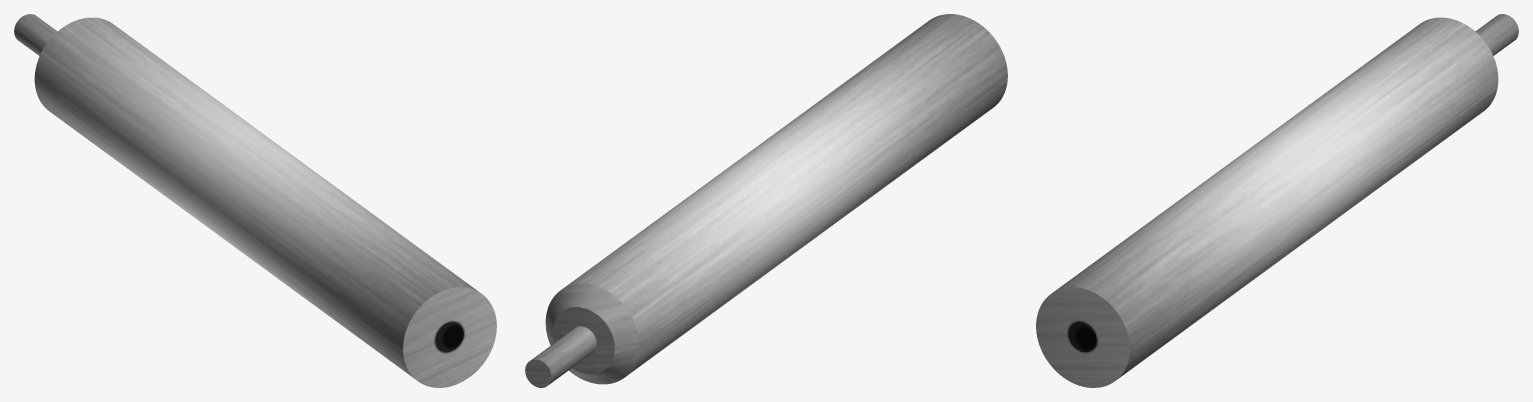
Rendered from pole_kinect.dae.
3 views of the same model, side by side, from view 1: azimuth 30°, elevation 25°; view 2: azimuth 150°, elevation 25°; view 3: azimuth 330°, elevation 25° (orthographic).
Parts seen in each view (by area): view 1: kinect_pole; view 2: kinect_pole; view 3: kinect_pole.
Boxes of the visible parts, left/top/right/bottom form: kinect_pole: left=14, top=14, right=496, bottom=387; kinect_pole: left=525, top=14, right=1007, bottom=387; kinect_pole: left=1036, top=14, right=1518, bottom=387.
Bounding box in the file's own units: 12 × 93.6 × 12.
1 material, 1 textured.
